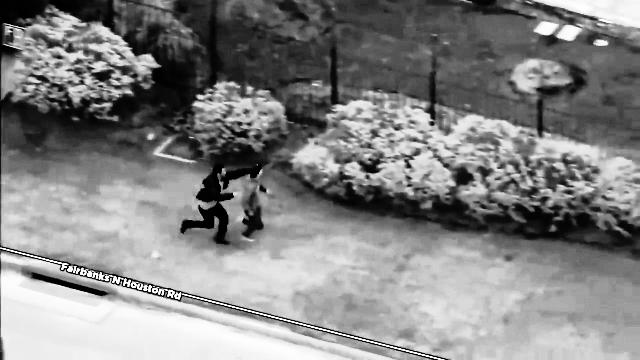berlari: (178, 160, 236, 250), (237, 160, 283, 244)
